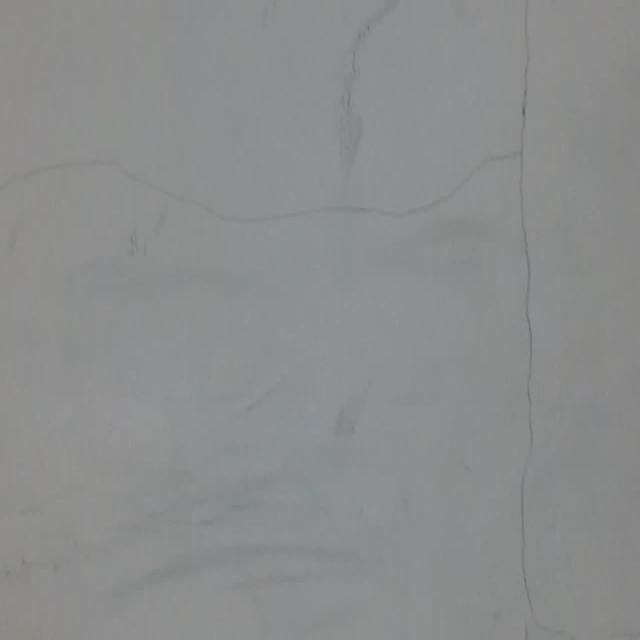Crack: (0, 138, 492, 240), (493, 2, 549, 639)
